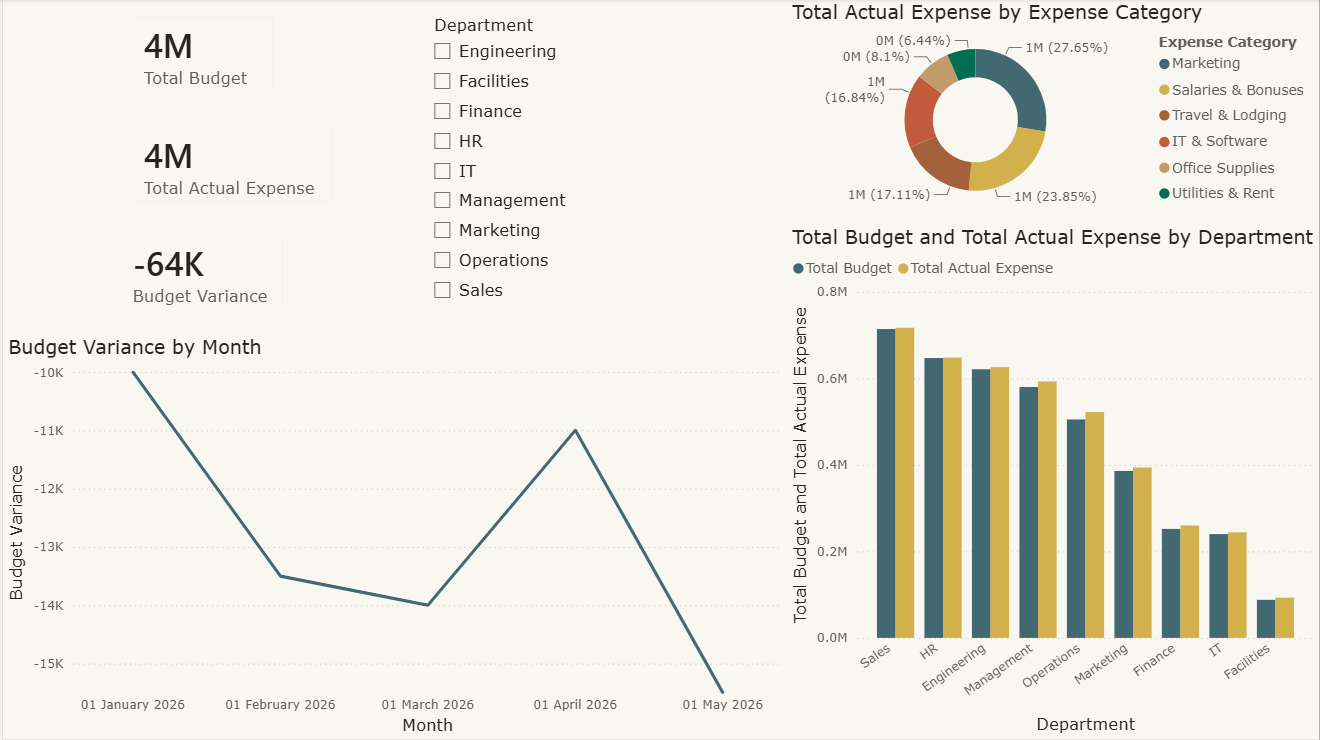

Layout of this report page (visuals, bound fields, positions):
{"tool":"powerbi","page":{"name":"Page 1","canvas":[1280,720],"ordinal":0},"visuals":[{"type":"cardVisual","fields":{"Data":["Company Budget Data.Total Budget"]},"box":[107,0,173.1,106],"z":0},{"type":"cardVisual","fields":{"Data":["Company Budget Data.Total Actual Expense"]},"box":[107,106,230.5,108.9],"z":1000},{"type":"cardVisual","fields":{"Data":["Company Budget Data.Budget Variance"]},"box":[96.3,212,193.6,106],"z":2000},{"type":"clusteredColumnChart","fields":{"Category":["Company Budget Data.Department"],"Y":["Company Budget Data.Total Budget","Company Budget Data.Total Actual Expense"]},"box":[762.6,218.8,517.4,500.9],"z":3000},{"type":"lineChart","fields":{"Y":["Company Budget Data.Budget Variance"],"Category":["Company Budget Data.Month"]},"box":[0,325.8,762.6,393.9],"z":4000},{"type":"donutChart","fields":{"Category":["Company Budget Data.Expense Category"],"Y":["Company Budget Data.Total Actual Expense"]},"box":[762.6,0,517.4,212],"z":5000},{"type":"slicer","fields":{"Values":["Company Budget Data.Department"]},"box":[406.6,9.7,314.2,300.5],"z":5001}]}

Visuals, with their boxes in screenshot pixels (x1, y1, x2, y2), scaled from the page's 1280x720 canvas onto the 1320x740 screenshot:
cardVisual - Company Budget Data.Total Budget: l=110, t=0, r=289, b=109
cardVisual - Company Budget Data.Total Actual Expense: l=110, t=109, r=348, b=221
cardVisual - Company Budget Data.Budget Variance: l=99, t=218, r=299, b=327
clusteredColumnChart - Company Budget Data.Department x Company Budget Data.Total Budget: l=786, t=225, r=1319, b=739
lineChart - Company Budget Data.Budget Variance x Company Budget Data.Month: l=0, t=335, r=786, b=739
donutChart - Company Budget Data.Expense Category x Company Budget Data.Total Actual Expense: l=786, t=0, r=1319, b=218
slicer - Company Budget Data.Department: l=419, t=10, r=743, b=319
